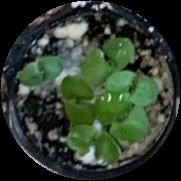Basil: (97, 95, 149, 141), (67, 125, 120, 165), (82, 37, 133, 78), (106, 72, 156, 105), (61, 78, 96, 122), (16, 56, 64, 87)
